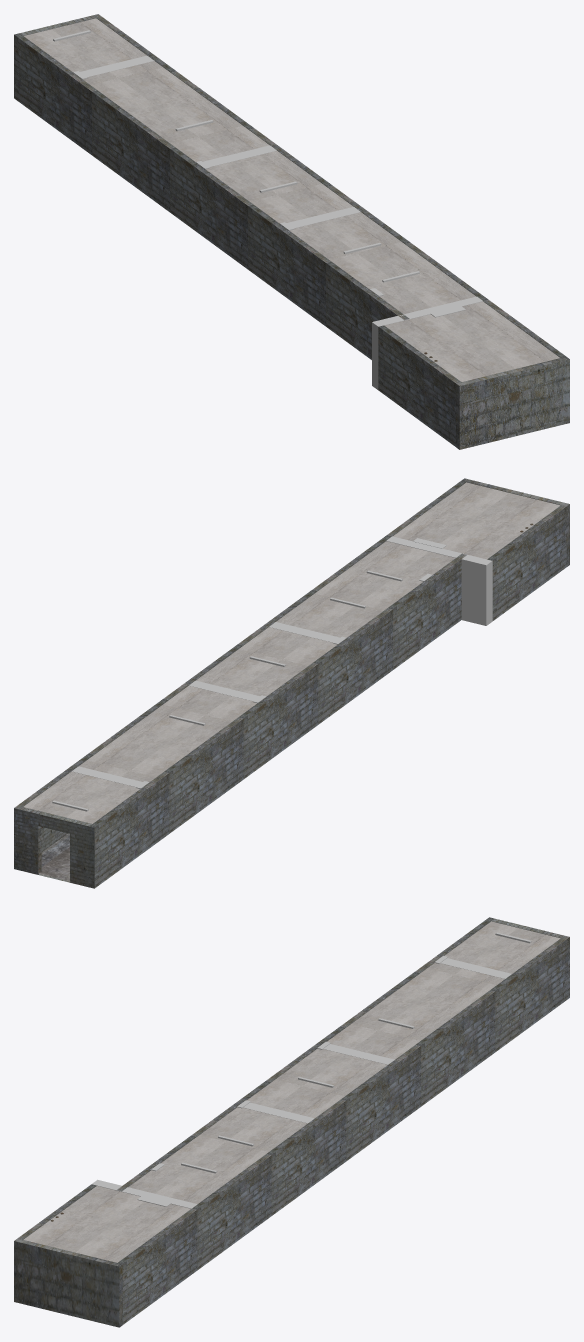
The model's file is Corridor.fbx.
3 renders of one model, top to bottom at view 1: azimuth 30°, elevation 25°; view 2: azimuth 150°, elevation 25°; view 3: azimuth 330°, elevation 25°, orthographic. The views are drawn at different scales.
Parts seen in each view (by area): view 1: Cube.064, Cube.002, Cube.063, Cube.070, Cube.072, Cube.071, Cube.073, Plane.034, Plane.003, Plane.033, Plane.022, Plane.025 (+15 smaller); view 2: Cube.063, Cube.071, Cube.002, Cube.070, Cube.072, Cube.073, Cube.050, Cube.003, Plane.034, Plane.003, Plane.033, Plane.022 (+18 smaller); view 3: Cube.064, Cube.001, Cube.066, Cube.067, Cube.065, Cube.069, Cube.068, Plane.034, Plane.003, Plane.033, Plane.022, Plane.025 (+14 smaller).
Part boxes in pixels (x1,y1,x2,y2): Cube.064: (456, 357, 569, 449); Cube.002: (378, 325, 461, 446); Cube.063: (14, 33, 97, 154); Cube.070: (92, 90, 175, 212); Cube.072: (248, 204, 331, 326); Cube.071: (170, 147, 253, 269); Cube.073: (326, 261, 409, 359); Plane.034: (119, 71, 227, 136); Plane.003: (409, 314, 514, 375); Plane.033: (91, 78, 197, 143); Plane.022: (443, 305, 544, 368); Plane.025: (357, 246, 460, 307); Cube.063: (89, 772, 169, 888); Cube.071: (239, 663, 318, 778); Cube.002: (487, 505, 566, 620); Cube.070: (164, 717, 243, 833); Cube.072: (313, 608, 392, 724); Cube.073: (388, 553, 466, 669); Cube.050: (14, 807, 94, 888); Cube.003: (455, 553, 492, 625); Plane.034: (102, 708, 205, 770); Plane.003: (440, 493, 537, 553); Plane.033: (130, 715, 232, 777); Plane.022: (408, 486, 508, 543); Cube.064: (14, 1239, 122, 1327); Cube.001: (117, 1208, 197, 1324); Cube.066: (267, 1099, 346, 1215); Cube.067: (341, 1045, 420, 1161); Cube.065: (192, 1154, 271, 1270); Cube.069: (490, 935, 569, 1051); Cube.068: (416, 990, 495, 1106); Plane.034: (378, 975, 481, 1037); Plane.003: (47, 1191, 143, 1252); Plane.033: (351, 968, 453, 1030); Plane.022: (75, 1201, 176, 1259); Plane.025: (155, 1141, 253, 1200).
Size of the model in its own units: 1051 by 592 by 7768.
